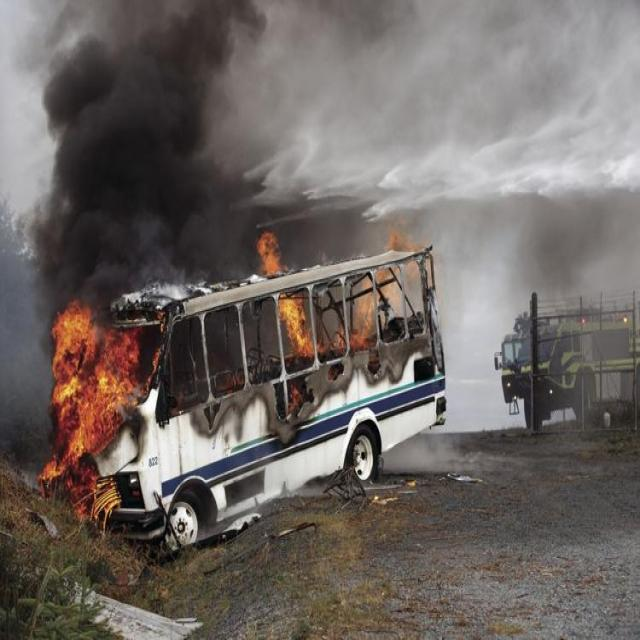Fire: (37, 308, 139, 494), (326, 220, 434, 356), (255, 232, 314, 356)
Smoke: (0, 0, 640, 433)
